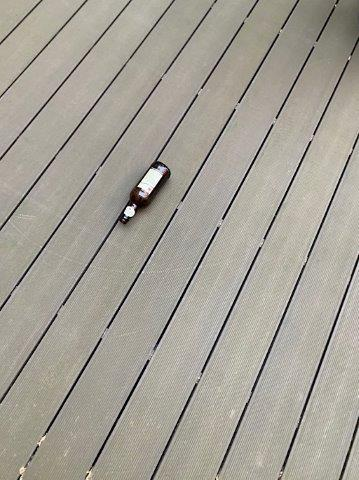botolkaca: (118, 161, 172, 224)
